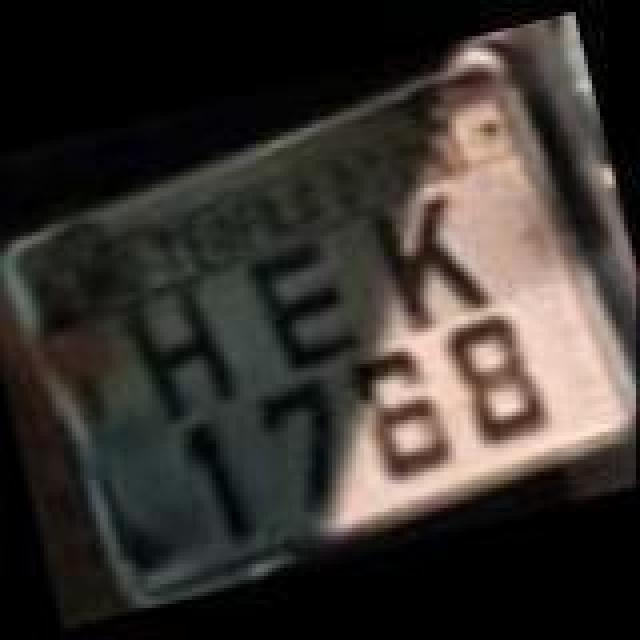1: (176, 408, 268, 552)
6: (346, 332, 466, 484)
7: (256, 374, 364, 514)
8: (438, 304, 558, 448)
E: (246, 230, 374, 378)
H: (118, 272, 246, 432)
K: (366, 180, 494, 332)
